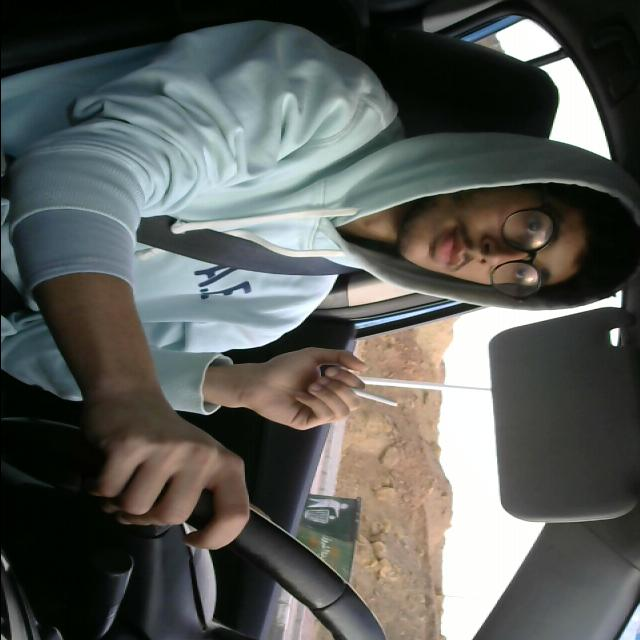smoking: (321, 380, 402, 410)
